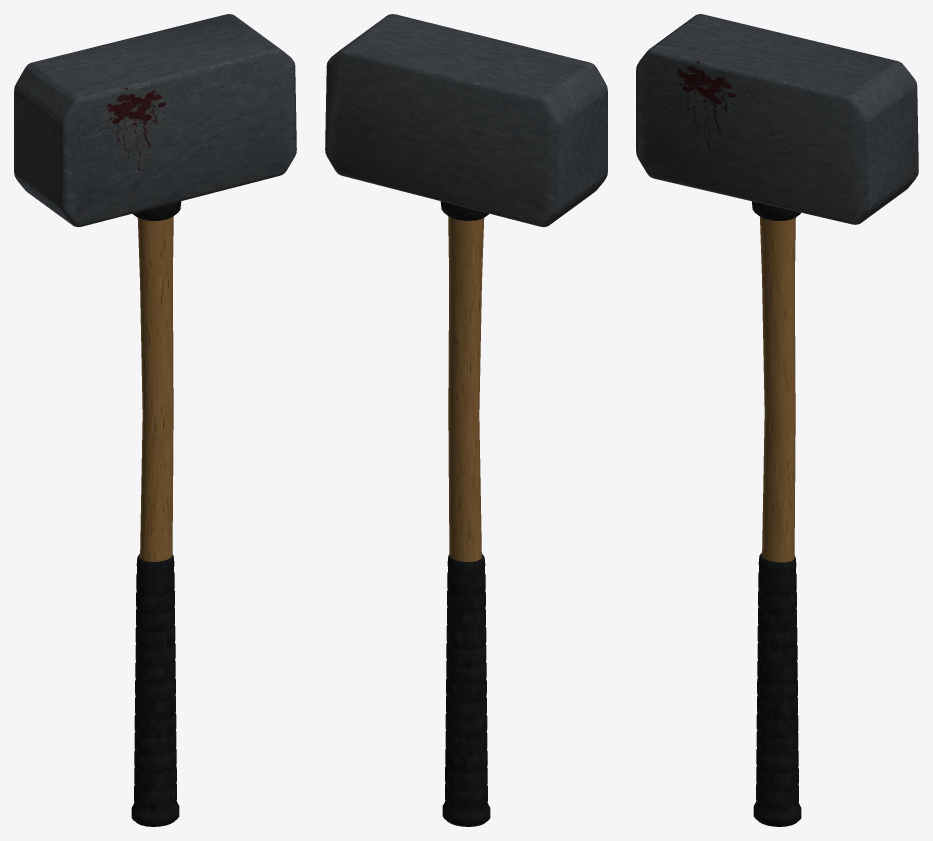
Rendered from sledgehammer.glb.
The picture shows the model from 3 angles, left to right: view 1: azimuth 30°, elevation 25°; view 2: azimuth 150°, elevation 25°; view 3: azimuth 330°, elevation 25°; orthographic projection.
Visible parts, largest first — view 1: Sledgehammer_mesh; view 2: Sledgehammer_mesh; view 3: Sledgehammer_mesh.
Part boxes in pixels (x1,y1,x2,y2): Sledgehammer_mesh: (14,14,296,826); Sledgehammer_mesh: (325,14,607,826); Sledgehammer_mesh: (636,14,918,826).
Size of the model in its own units: 0.2739 by 0.85 by 0.105.
Materials: 1 (1 with a texture image).
